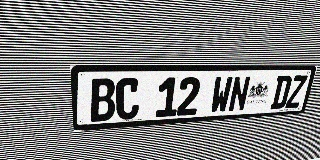1: (156, 77, 180, 117)
2: (177, 77, 201, 116)
B: (90, 78, 115, 122)
C: (116, 78, 140, 120)
D: (270, 75, 293, 109)
N: (227, 76, 251, 112)
W: (209, 76, 233, 114)
Z: (285, 75, 308, 108)
